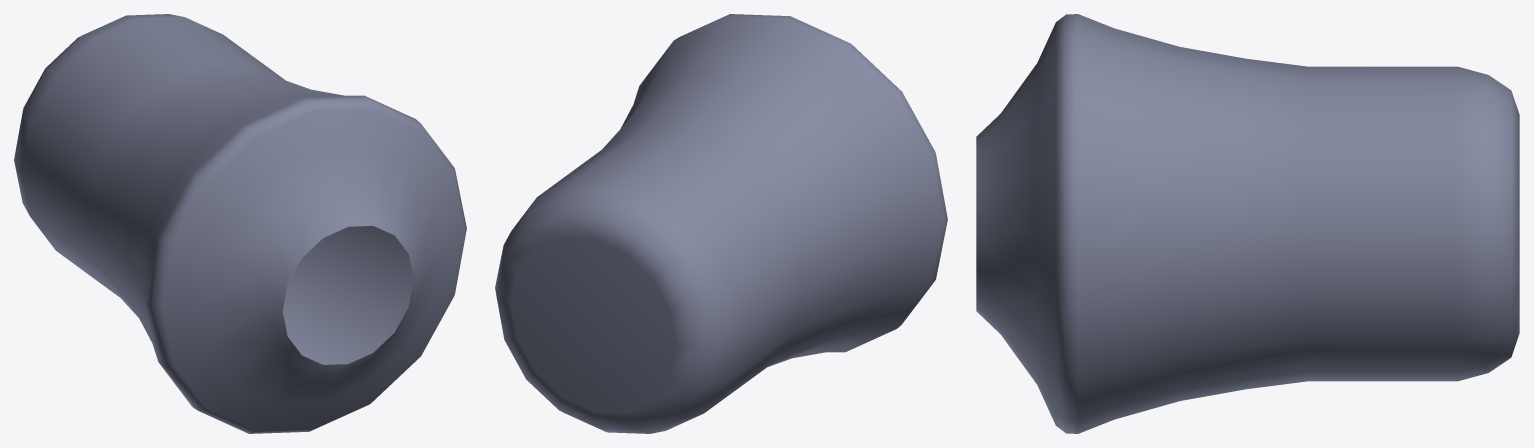
File: MeshSoapBottle_21_0_GeomSubset_0.obj
The picture shows the model from 3 angles, left to right: view 1: azimuth 30°, elevation 25°; view 2: azimuth 150°, elevation 25°; view 3: azimuth 270°, elevation 25°; orthographic projection. The views are drawn at different scales.
Visible parts, largest first — view 1: MeshSoapBottle_21_0_GeomSubset_0; view 2: MeshSoapBottle_21_0_GeomSubset_0; view 3: MeshSoapBottle_21_0_GeomSubset_0.
Part boxes in pixels (x1,y1,x2,y2): MeshSoapBottle_21_0_GeomSubset_0: (14,14,466,433); MeshSoapBottle_21_0_GeomSubset_0: (495,14,947,433); MeshSoapBottle_21_0_GeomSubset_0: (976,14,1519,433).
Bounding box in the file's own units: 0.1269 × 0.1269 × 0.164.
